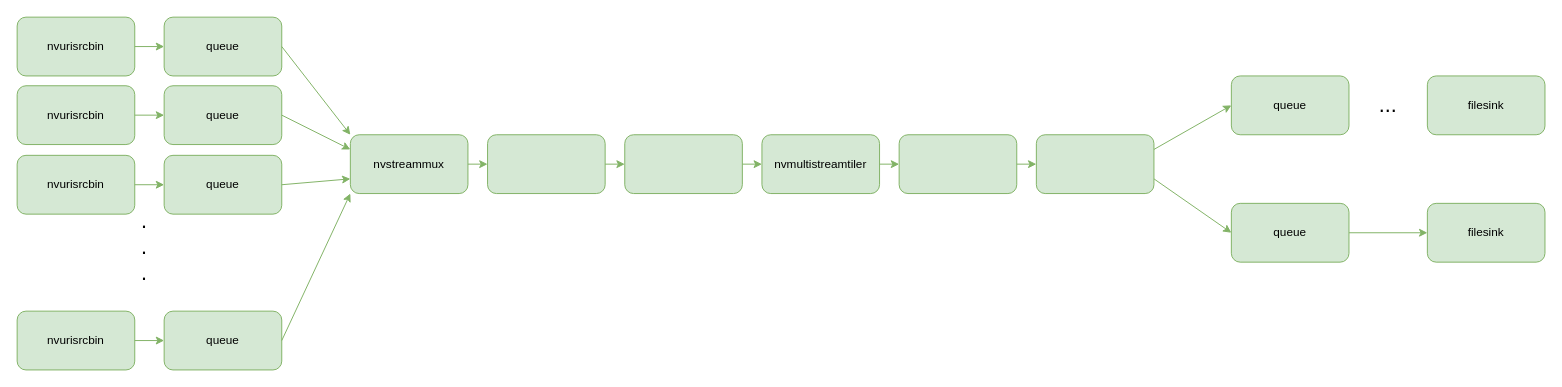
Some shapes in this 1562 by 387 pixel diagram are drawn without their labels. The shapes that lost their labels are listed below. From the top down, each one's centre as x and y in pixels, then its label:
At pixel 546 164: "nvinfer".
At pixel 683 164: "nvtracker".
At pixel 957 164: "nvosd".
At pixel 1094 164: "tee".
